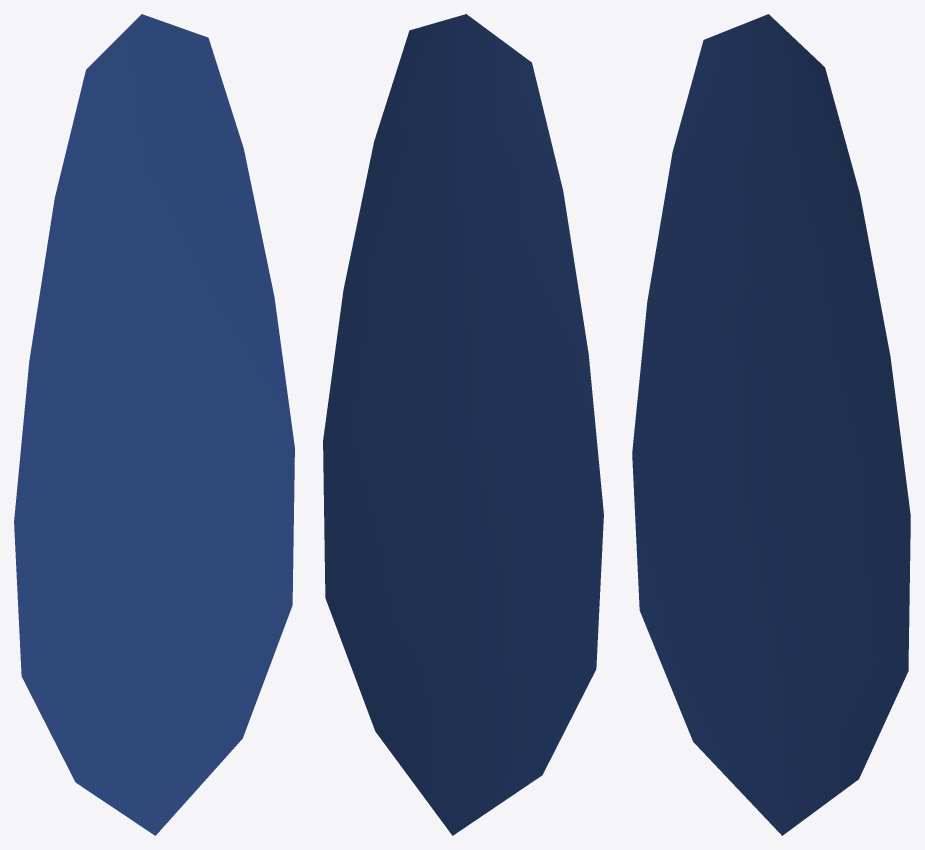
File: lovebird_feather_flight_secondary_020.obj
The picture shows the model from 3 angles, left to right: view 1: azimuth 30°, elevation 25°; view 2: azimuth 150°, elevation 25°; view 3: azimuth 330°, elevation 25°; orthographic projection.
Visible parts, largest first — view 1: feather_flight_secondary_020; view 2: feather_flight_secondary_020; view 3: feather_flight_secondary_020.
Part boxes in pixels (x1,y1,x2,y2): feather_flight_secondary_020: [14, 14, 294, 835]; feather_flight_secondary_020: [323, 14, 603, 835]; feather_flight_secondary_020: [632, 14, 910, 835].
Size of the model in its own units: 0.00527 by 0.0148 by 0.00016.
